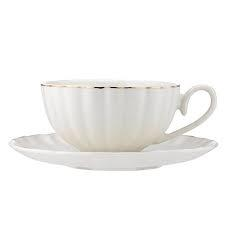cup: (39, 79, 219, 153)
